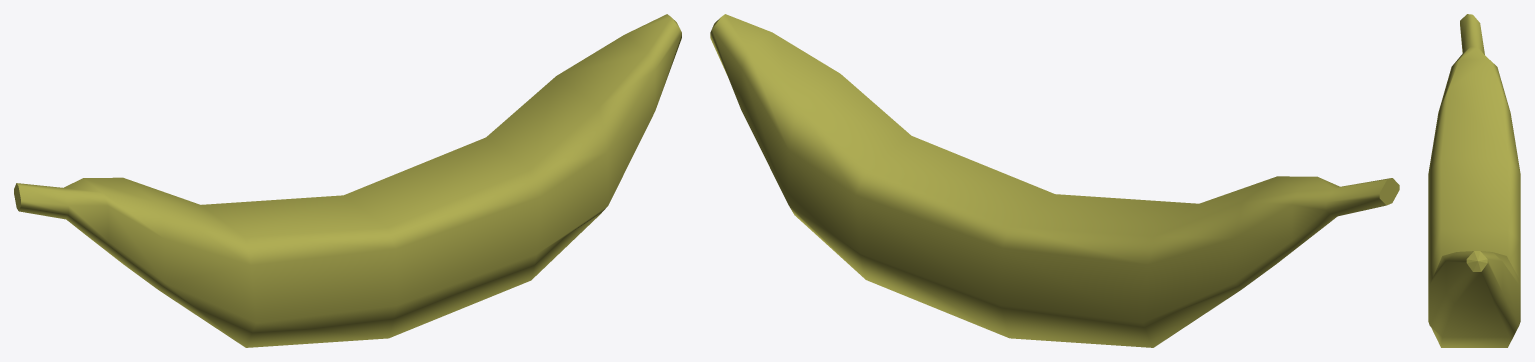
Rendered from Banana.fbx.
3 renders of one model, left to right at view 1: azimuth 30°, elevation 25°; view 2: azimuth 150°, elevation 25°; view 3: azimuth 270°, elevation 25°, orthographic. The views are drawn at different scales.
Visible parts, largest first — view 1: Bannana; view 2: Bannana; view 3: Bannana.
Part boxes in pixels (x1=…): Bannana: x1=14, y1=14, x2=681, y2=347; Bannana: x1=710, y1=14, x2=1399, y2=347; Bannana: x1=1428, y1=14, x2=1520, y2=347.
Size of the model in its own units: 20.61 by 6.8 by 3.26.
